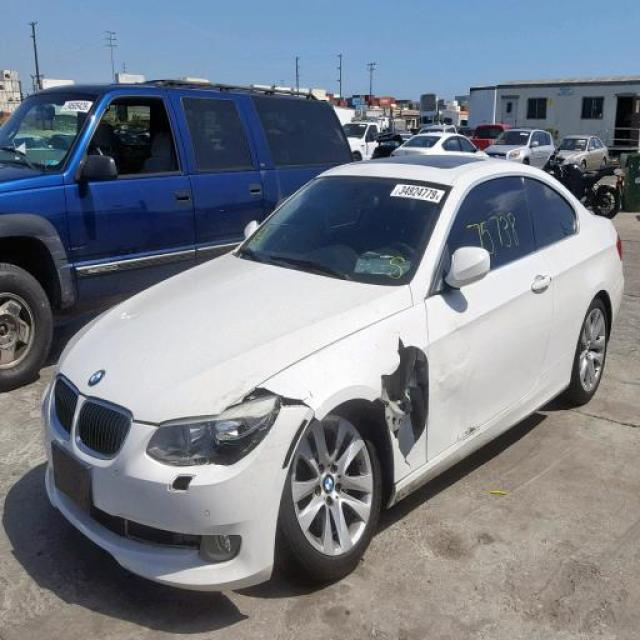crush: (142, 325, 435, 476)
